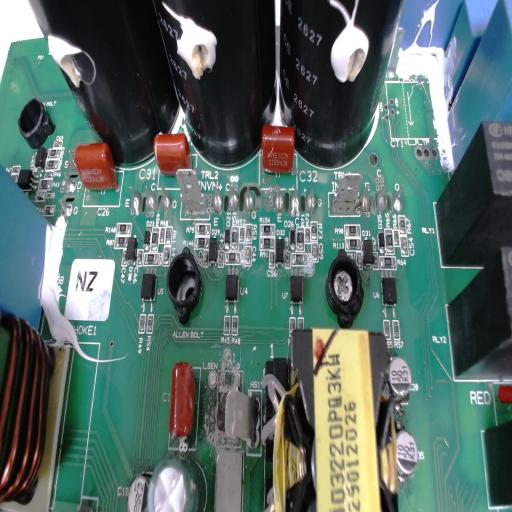pin_group: (209, 177, 260, 219), (270, 178, 320, 218), (358, 180, 408, 220), (126, 179, 174, 219)
solder_ball: (224, 180, 238, 216), (242, 181, 256, 215), (126, 184, 142, 213), (212, 182, 225, 217), (142, 182, 156, 214), (392, 184, 406, 216), (272, 184, 286, 214), (288, 188, 302, 216), (304, 185, 318, 212), (376, 184, 388, 215), (159, 186, 171, 216), (360, 186, 371, 214)
